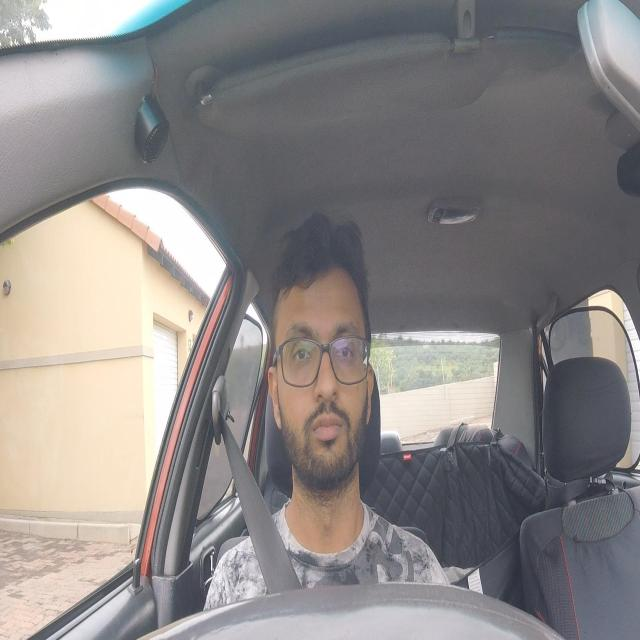open: (282, 318, 323, 378), (328, 320, 363, 372)
